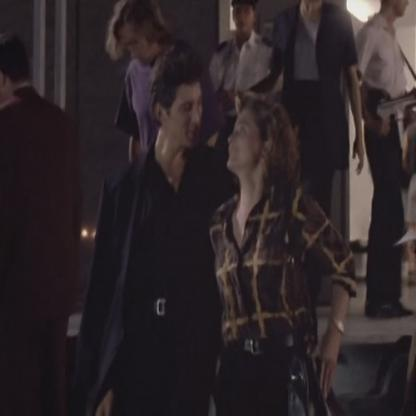Guns: (370, 82, 415, 140)
